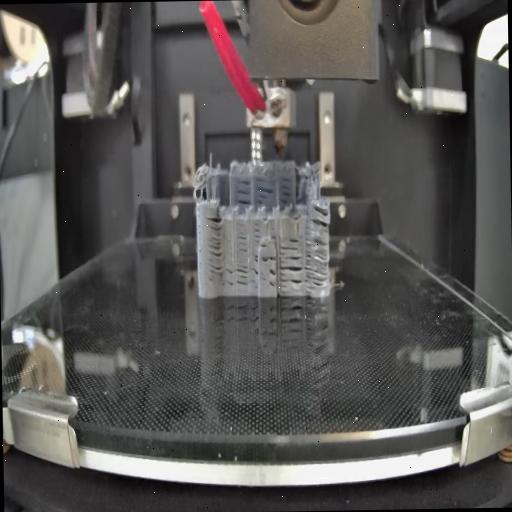cracks: (279, 236, 303, 292), (304, 237, 330, 288), (206, 215, 225, 277), (254, 176, 276, 206), (224, 264, 249, 289), (310, 205, 330, 228), (236, 178, 251, 207), (278, 175, 292, 206), (236, 224, 246, 254), (252, 254, 259, 288), (260, 251, 276, 265), (268, 268, 276, 290), (253, 222, 261, 243), (270, 221, 276, 240), (260, 242, 268, 249)
